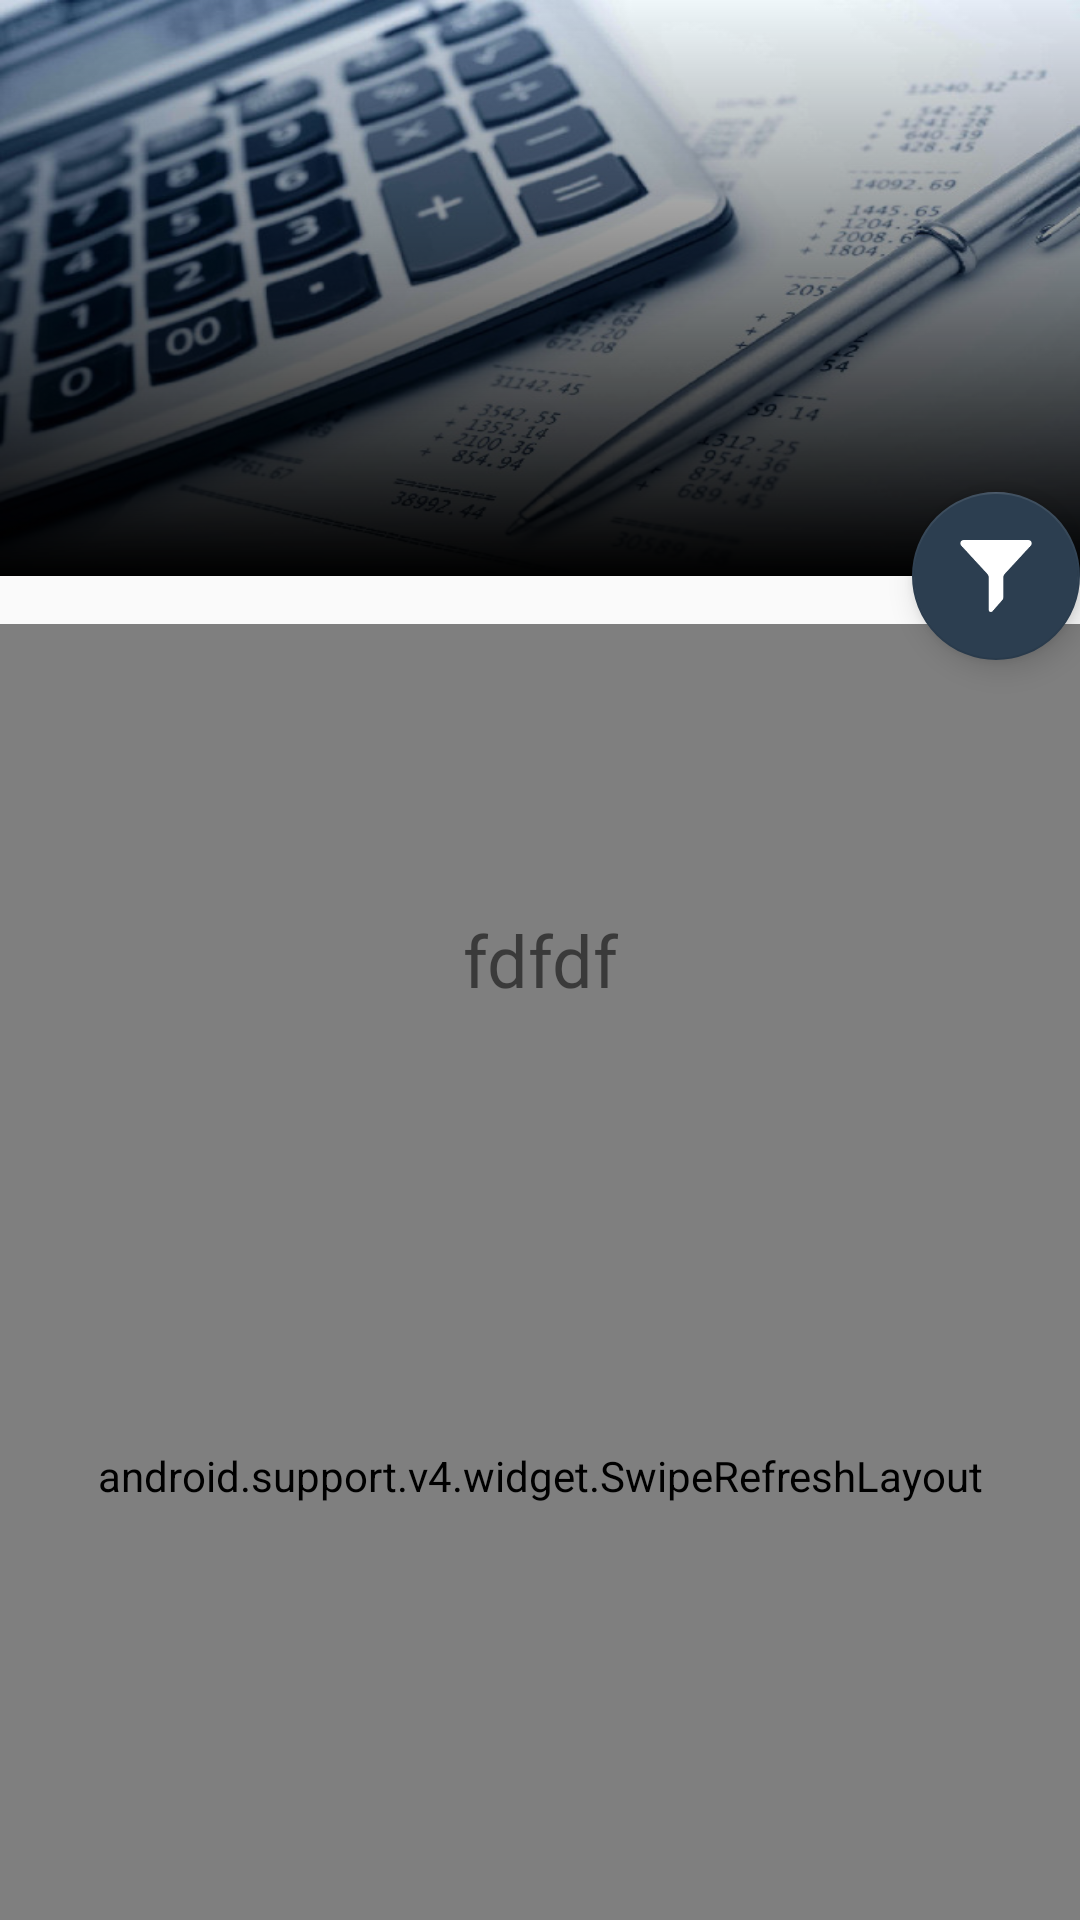

Screen size 1080×1920. Icon name, then its center in pixels as [x,y]:
filter: [996,576]
